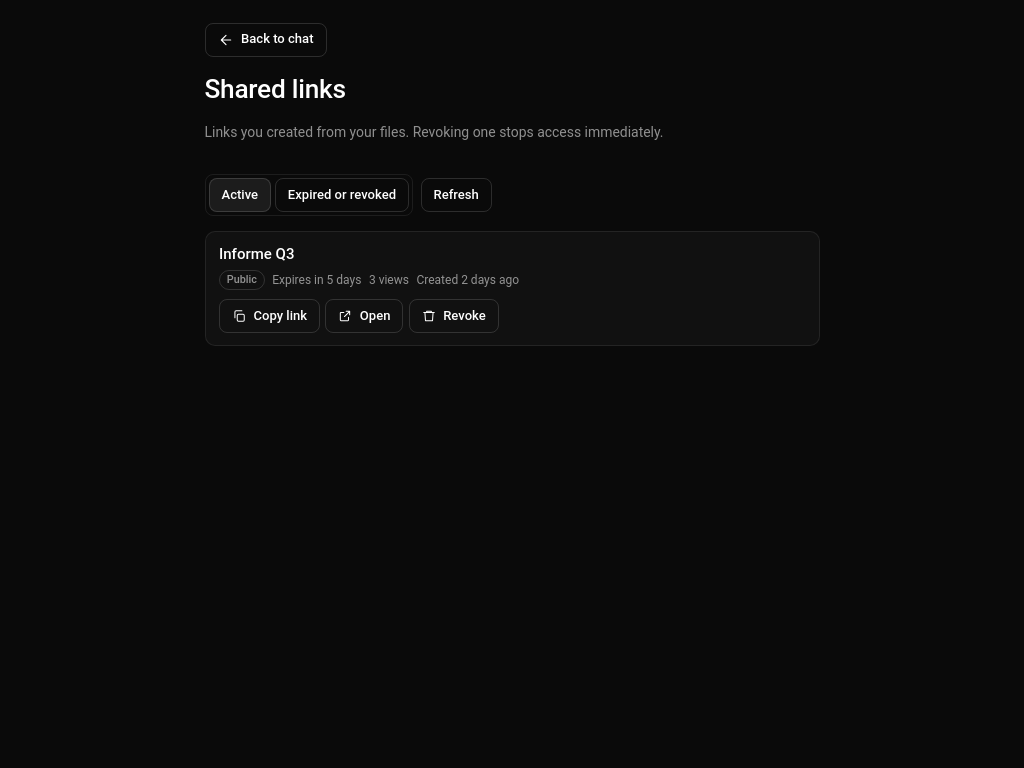
SharedLinksView › revoke asks first, then revokes and refreshes
Click the button with aria-label "Revoke Informe Q3" at (454, 316), box [409, 299, 499, 333]
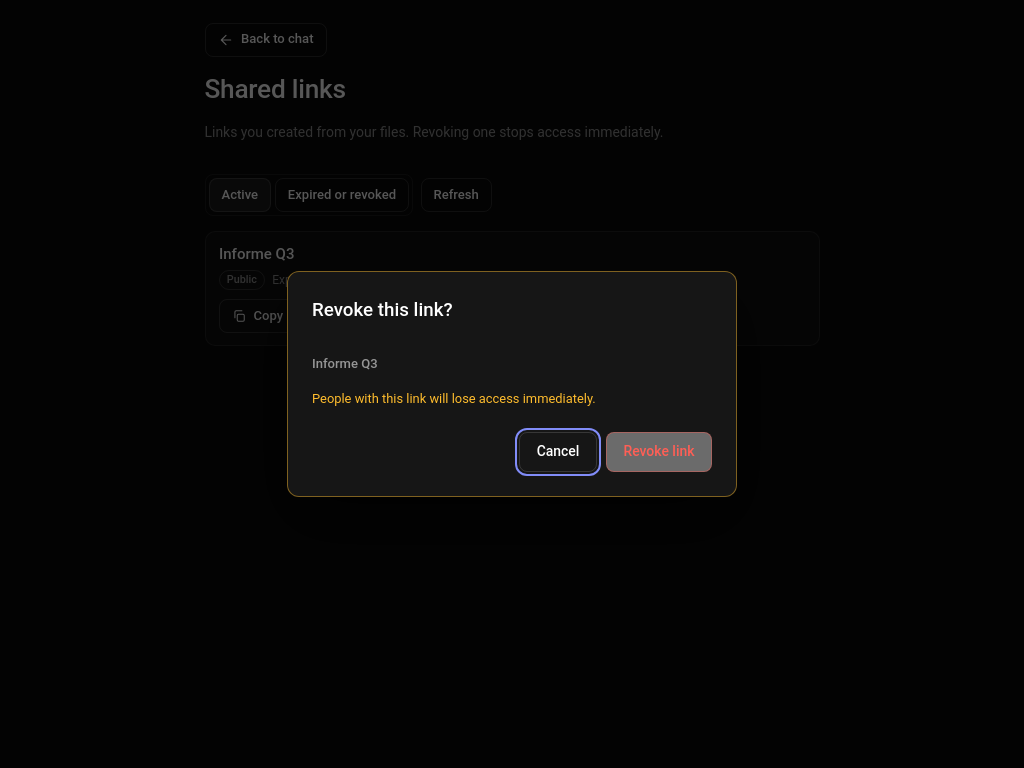
Check: the dialog shows "People with this link will lose access immediately.", box [312, 391, 596, 406]
Check: the button "Cancel" is shown, box [519, 432, 597, 472]
Click the button "Revoke link" at (659, 452), box [606, 432, 712, 472]
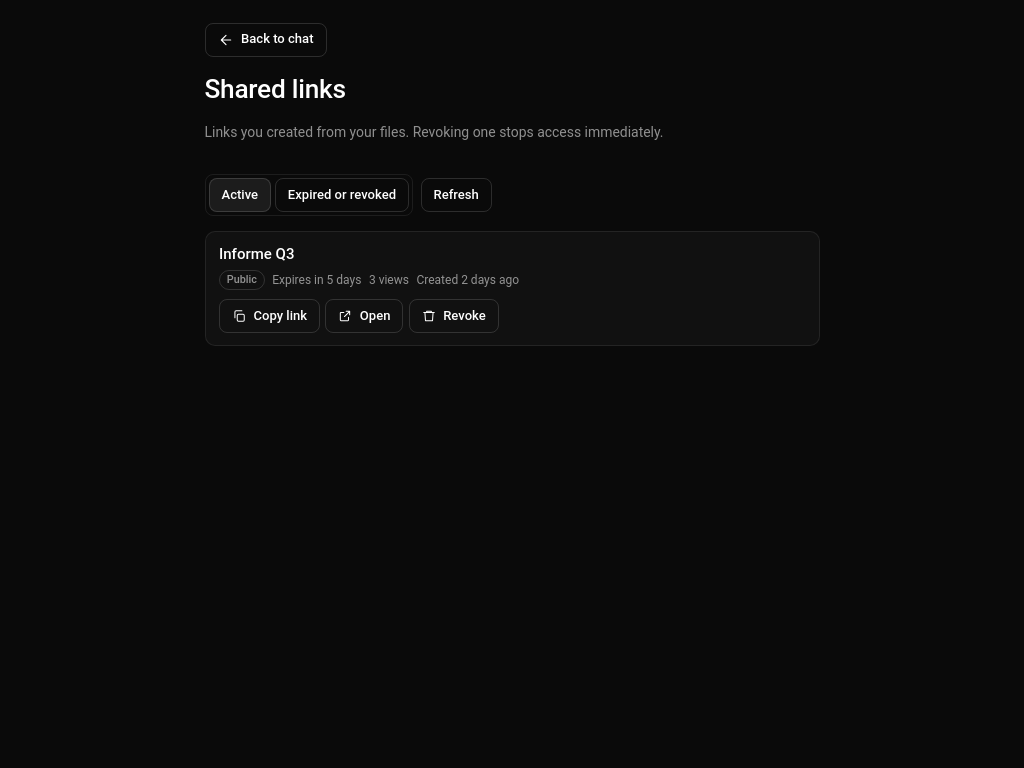
Check: the dialog is gone
